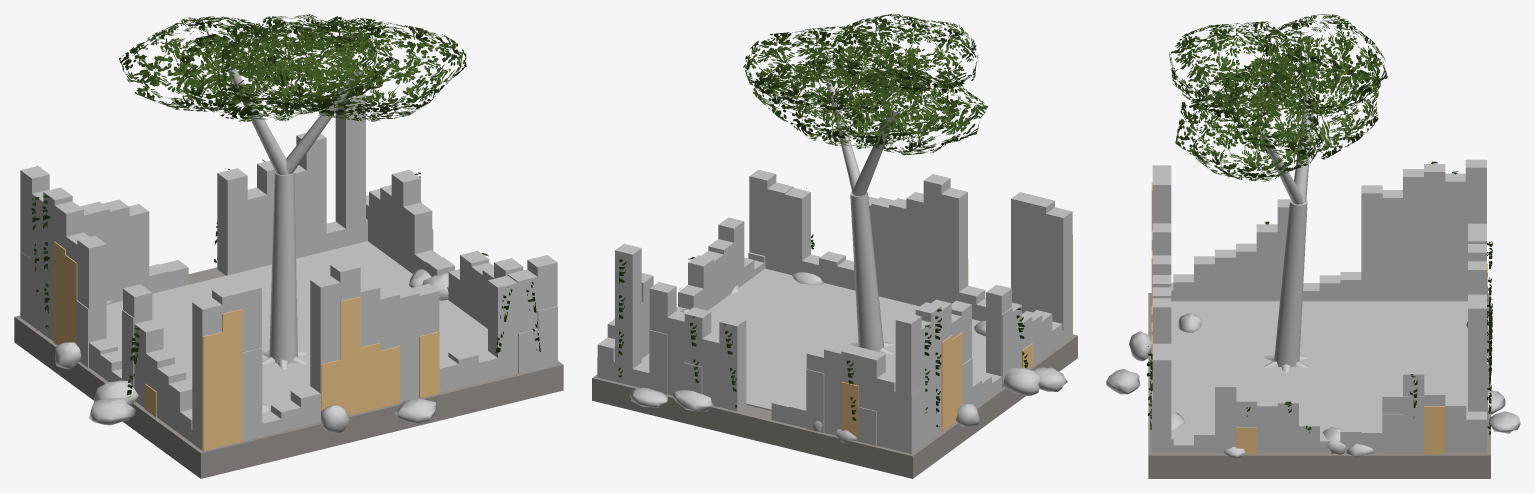
Rendered from SM_Art_Settlement_Ruin_2.gltf.
3 views of the same model, side by side, from view 1: azimuth 30°, elevation 25°; view 2: azimuth 150°, elevation 25°; view 3: azimuth 270°, elevation 25° (orthographic). The views are drawn at different scales.
Visible parts, largest first — view 1: SM_Art_Settlement_Ruin_2; view 2: SM_Art_Settlement_Ruin_2; view 3: SM_Art_Settlement_Ruin_2.
Part boxes in pixels (left/top/right/bottom): SM_Art_Settlement_Ruin_2: left=14, top=14, right=563, bottom=478; SM_Art_Settlement_Ruin_2: left=592, top=14, right=1077, bottom=478; SM_Art_Settlement_Ruin_2: left=1106, top=14, right=1520, bottom=478.
Size of the model in its own units: 10.47 by 9.13 by 9.91.
